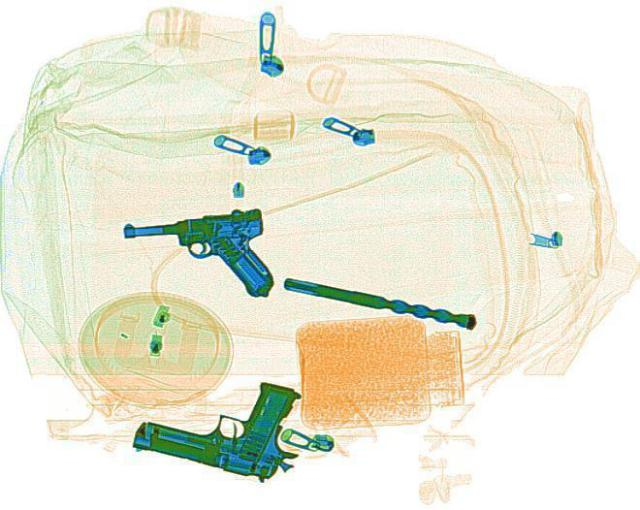Gun: (126, 355, 322, 482), (115, 204, 279, 308)
